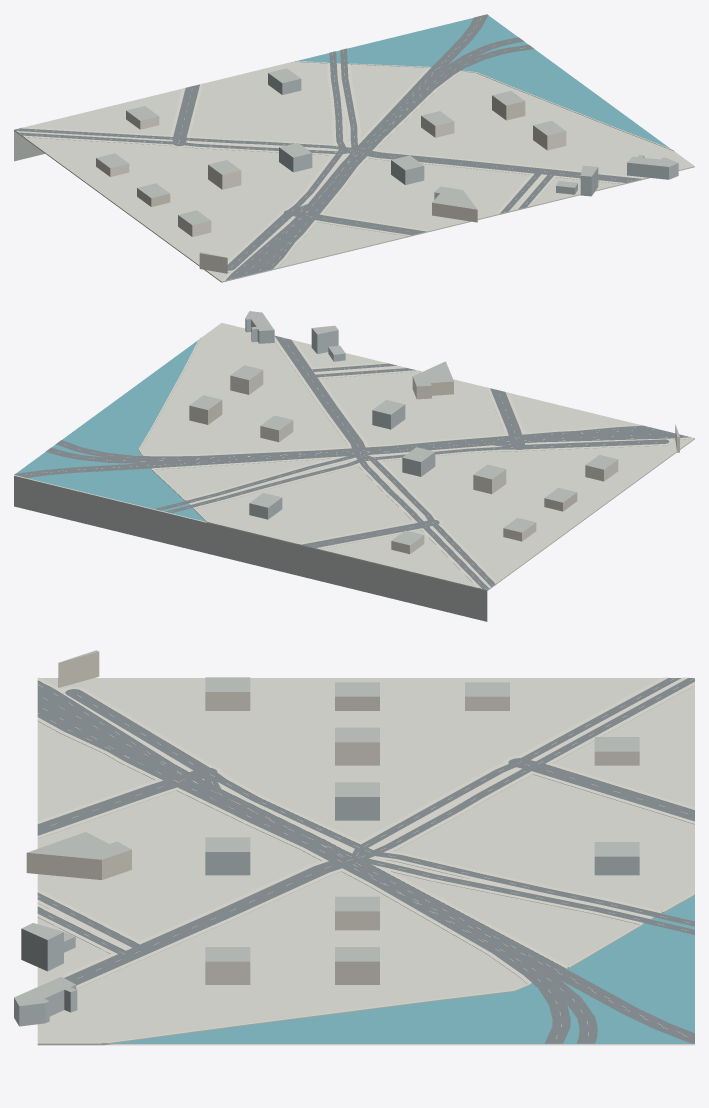
3 renders of one model, top to bottom at view 1: azimuth 30°, elevation 25°; view 2: azimuth 150°, elevation 25°; view 3: azimuth 270°, elevation 25°, orthographic. The views are drawn at different scales.
Parts seen in each view (by area): view 1: city; view 2: city; view 3: city.
Boxes of the visible parts, x1=… form: city: x1=14, y1=14, x2=694, y2=282; city: x1=14, y1=311, x2=694, y2=621; city: x1=14, y1=650, x2=694, y2=1045.
Bounding box in the file's own units: 504 × 52 × 394.
